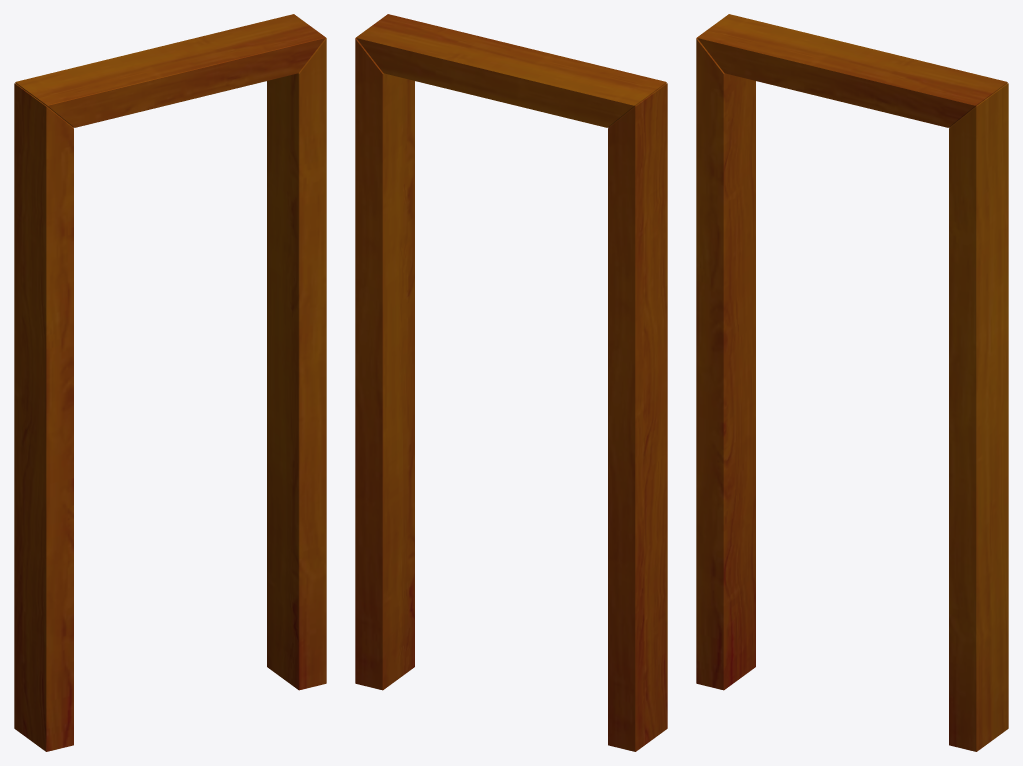
Rendered from CR_DoorFrame.glb.
3 renders of one model, left to right at view 1: azimuth 30°, elevation 25°; view 2: azimuth 150°, elevation 25°; view 3: azimuth 330°, elevation 25°, orthographic.
Parts seen in each view (by area): view 1: Door_Frame; view 2: Door_Frame; view 3: Door_Frame.
Part boxes in pixels (box(x1,y1,x2,y2)): Door_Frame: box(14, 14, 326, 751); Door_Frame: box(355, 14, 667, 751); Door_Frame: box(696, 14, 1008, 751).
Size of the model in its own units: 1 by 2.2 by 0.2.
Materials: 1 (1 with a texture image).
